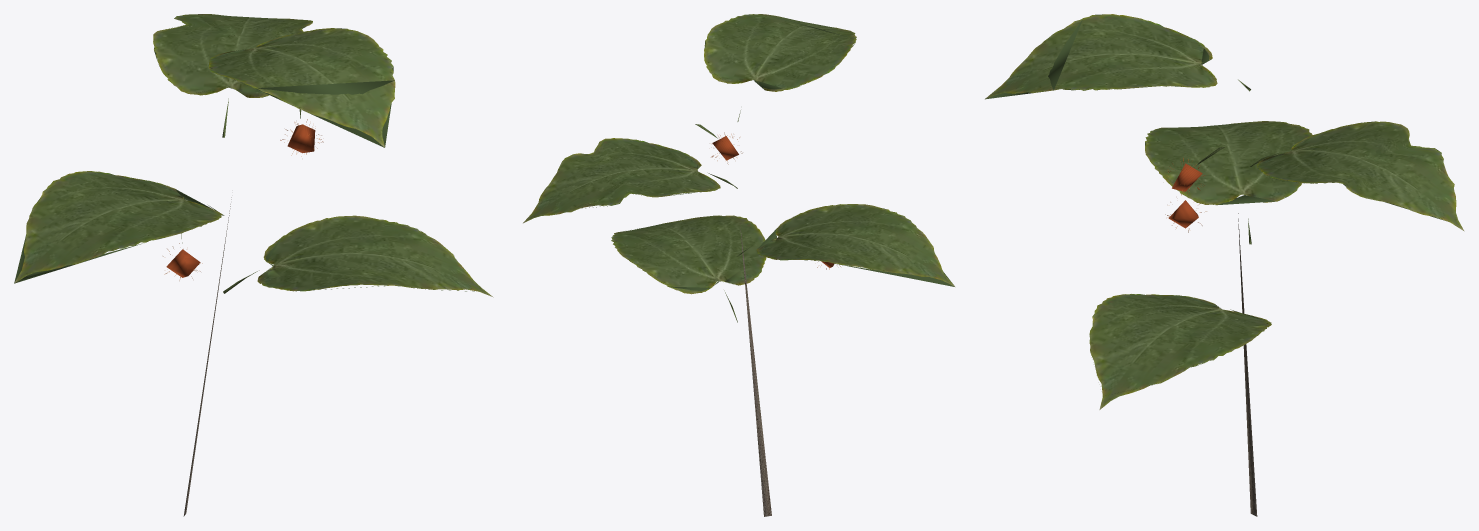
File: broussonetia-macro-lite.glb
The picture shows the model from 3 angles, left to right: view 1: azimuth 30°, elevation 25°; view 2: azimuth 150°, elevation 25°; view 3: azimuth 270°, elevation 25°; orthographic projection. The views are drawn at different scales.
Visible parts, largest first — view 1: leaf, leaf-edge, fruit, bark; view 2: leaf, bark, leaf-edge; view 3: leaf, leaf-edge, bark, fruit.
Part boxes in pixels (x1,y1,x2,y2): leaf: (14,14,493,297); leaf-edge: (14,16,474,291); fruit: (166,124,315,277); bark: (183,197,231,516); leaf: (523,14,954,294); bark: (740,223,771,516); leaf-edge: (535,14,954,291); leaf: (985,14,1464,409); leaf-edge: (985,14,1446,395); bark: (1238,213,1257,516); fruit: (1168,163,1202,228).
Bounding box in the file's own units: 0.3726 × 0.4152 × 0.3683.
Materials: 6 (5 with a texture image).
